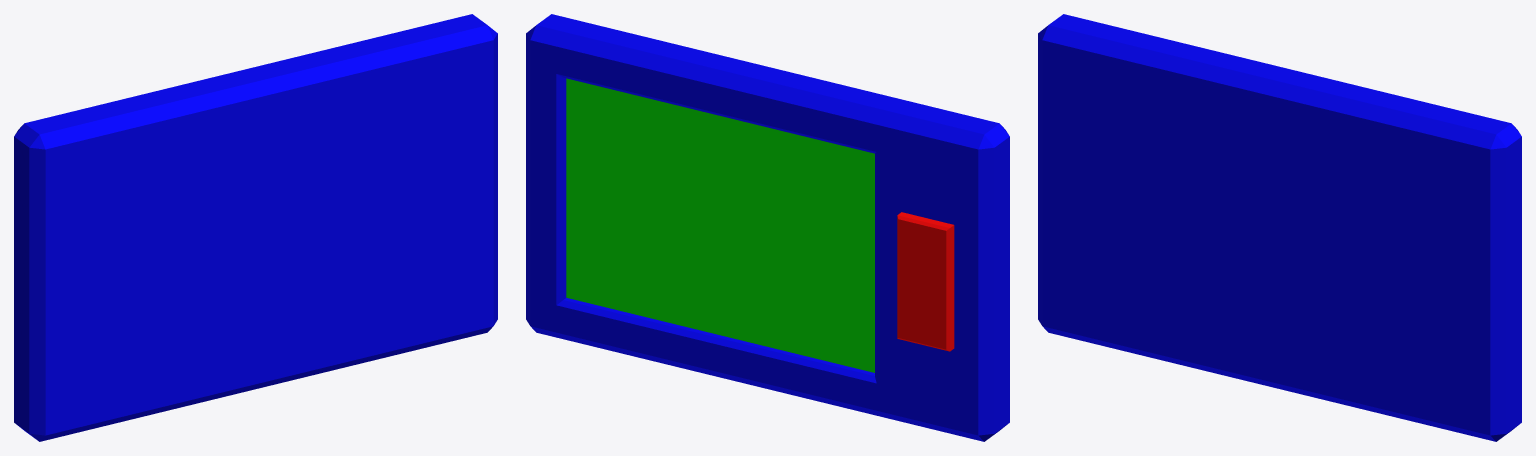
The model's file is Phone.fbx.
3 renders of one model, left to right at view 1: azimuth 30°, elevation 25°; view 2: azimuth 150°, elevation 25°; view 3: azimuth 330°, elevation 25°, orthographic.
Parts seen in each view (by area): view 1: Phone; view 2: Phone; view 3: Phone.
Boxes of the visible parts, <box> form: Phone: <box>14,14,497,441</box>; Phone: <box>526,14,1009,441</box>; Phone: <box>1038,14,1521,441</box>.
Bounding box in the file's own units: 112 × 70.52 × 13.64.
